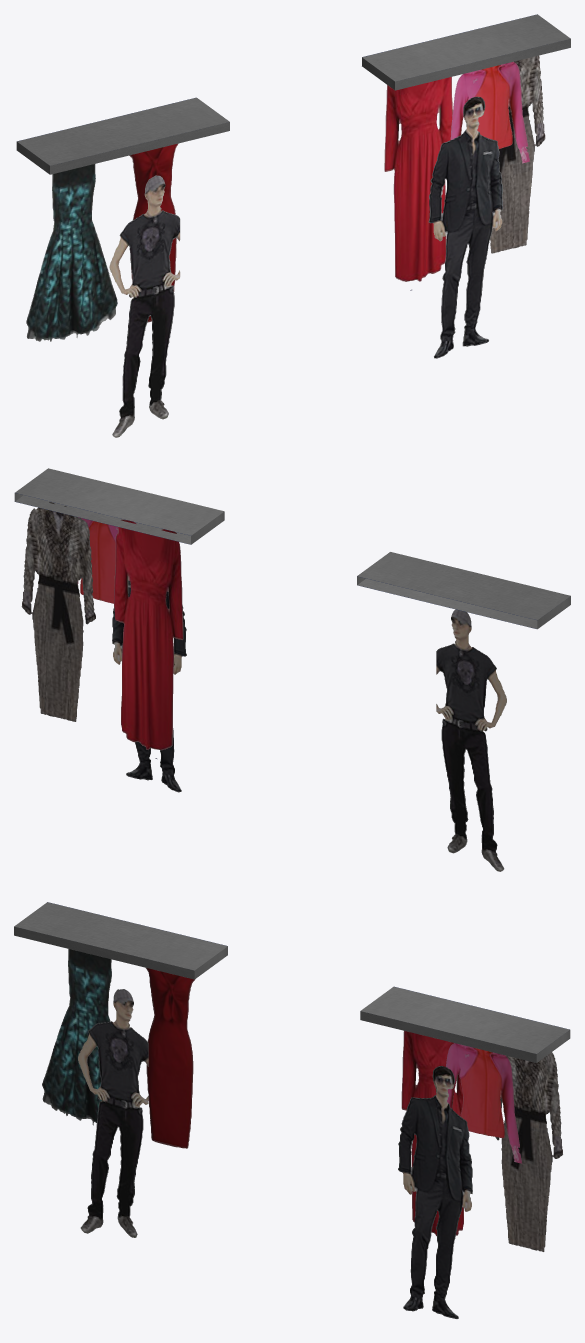
3 views of the same model, one above another, from view 1: azimuth 30°, elevation 25°; view 2: azimuth 150°, elevation 25°; view 3: azimuth 330°, elevation 25° (orthographic).
Visible parts, largest first — view 1: sd_07; view 2: sd_07; view 3: sd_07.
Part boxes in pixels (x1=…): sd_07: x1=16, y1=14, x2=570, y2=437; sd_07: x1=14, y1=468, x2=570, y2=871; sd_07: x1=14, y1=902, x2=570, y2=1318.
Size of the model in its own units: 19.22 by 2.06 by 9.89.
Materials: 1 (1 with a texture image).
